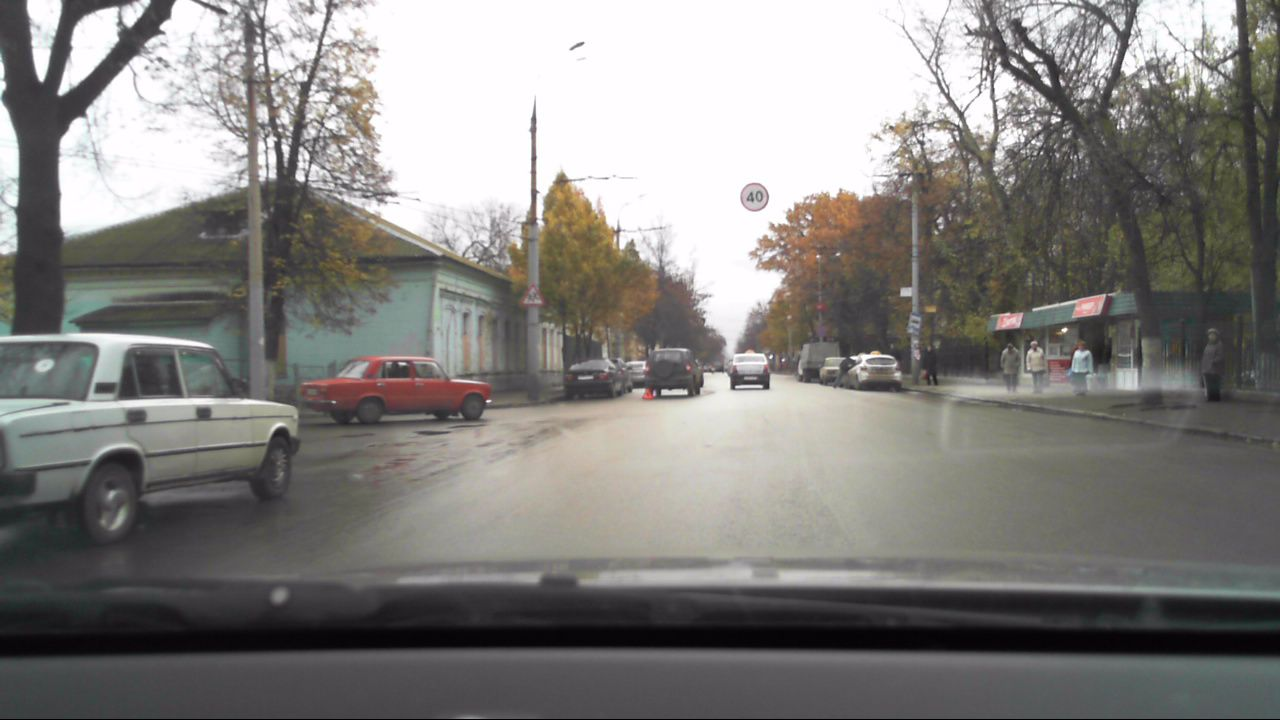speed_warning_40: (741, 183, 771, 212)
